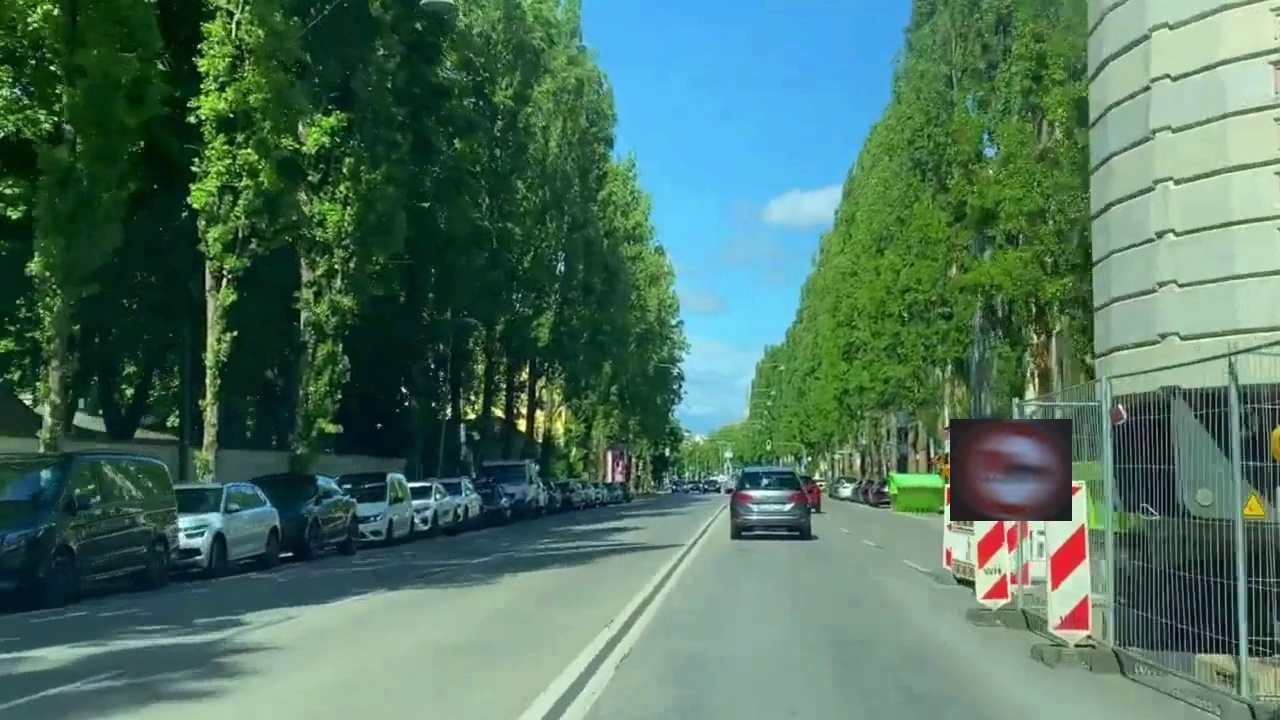No pass >3.5t: (950, 419, 1072, 521)
